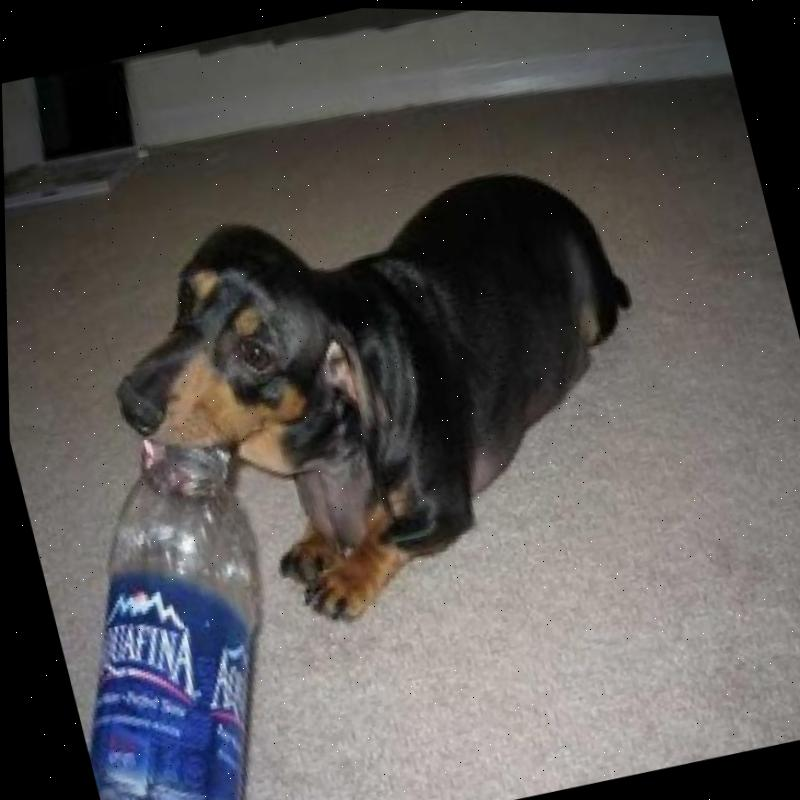botella: (12, 419, 323, 800)
